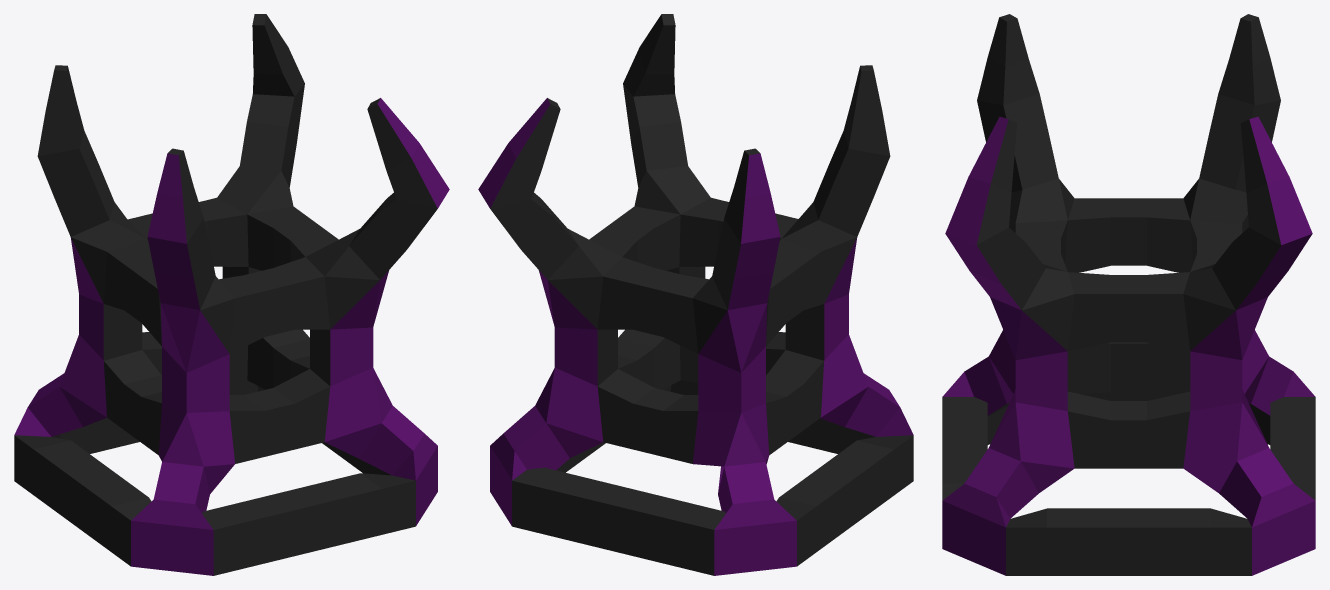
Rendered from Dark_Tower.fbx.
3 renders of one model, left to right at view 1: azimuth 30°, elevation 25°; view 2: azimuth 150°, elevation 25°; view 3: azimuth 270°, elevation 25°, orthographic. The views are drawn at different scales.
Parts seen in each view (by area): view 1: DarkTower; view 2: DarkTower; view 3: DarkTower.
Part boxes in pixels (x1,y1,x2,y2): DarkTower: (14, 14, 449, 575); DarkTower: (478, 14, 913, 575); DarkTower: (942, 14, 1315, 575).
Size of the model in its own units: 506 by 506 by 640.
